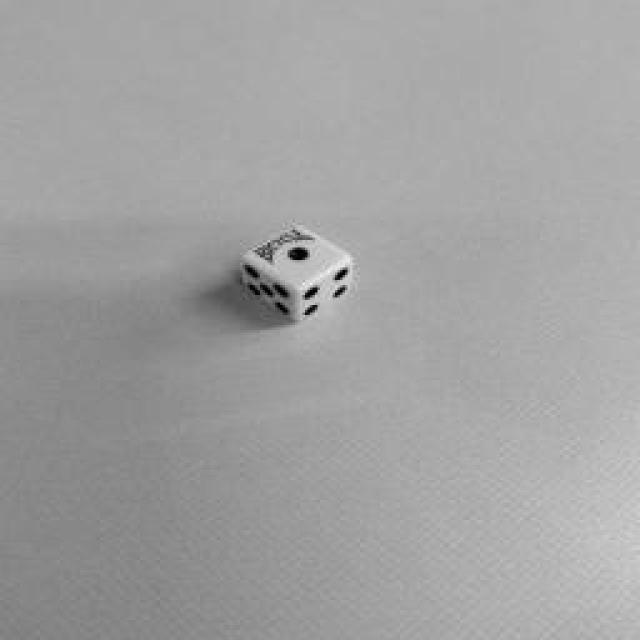dice_1: (242, 225, 350, 290)
